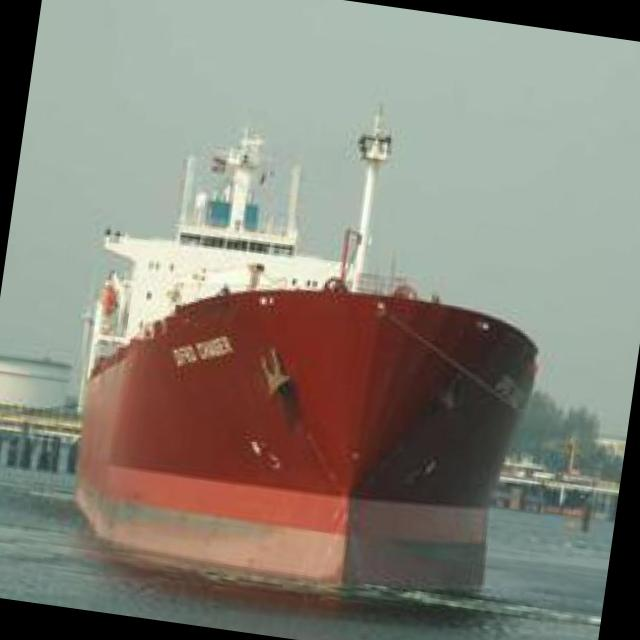boat: (45, 208, 560, 614)
